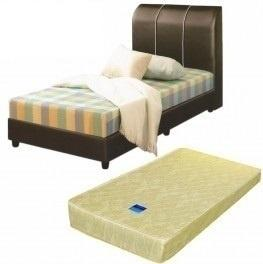bed: (7, 7, 229, 177)
